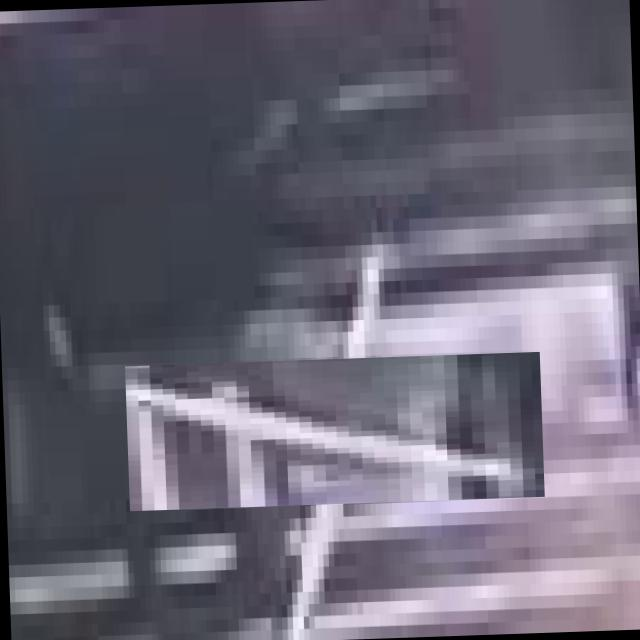stick: (190, 286, 480, 576)
